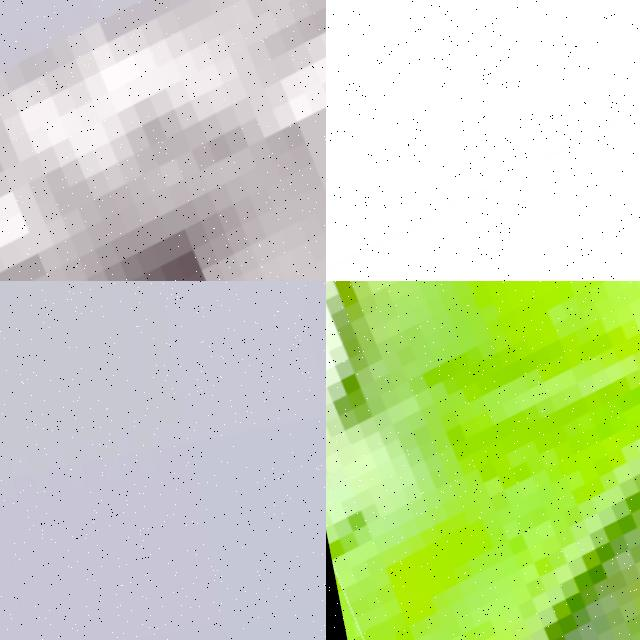drone: (326, 281, 640, 640), (0, 0, 326, 281), (326, 0, 640, 281)
